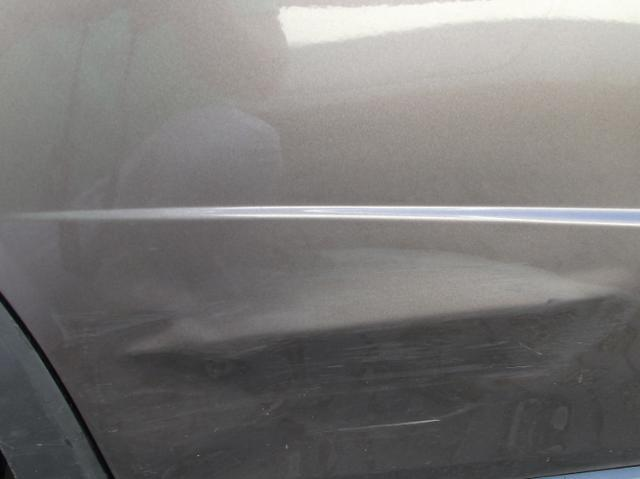Door: (14, 199, 640, 479)
